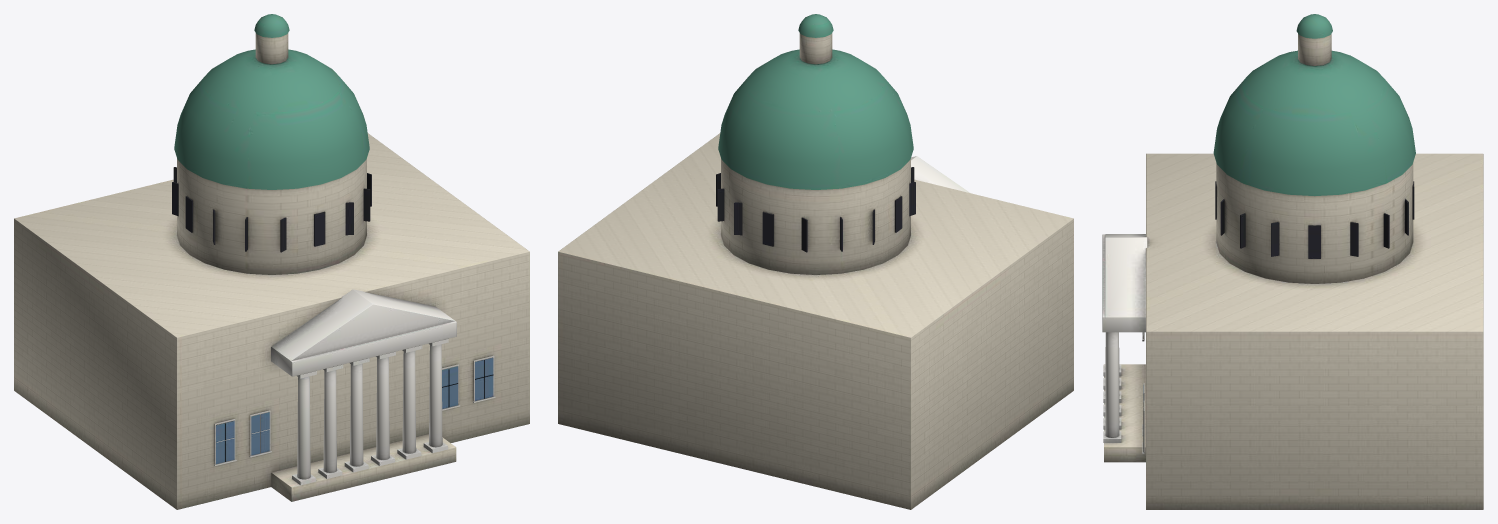
The model's file is old_courthouse.glb.
The picture shows the model from 3 angles, left to right: view 1: azimuth 30°, elevation 25°; view 2: azimuth 150°, elevation 25°; view 3: azimuth 270°, elevation 25°; orthographic projection. The views are drawn at different scales.
Visible parts, largest first — view 1: old_courthouse; view 2: old_courthouse; view 3: old_courthouse.
Part boxes in pixels (box(x1,y1,x2,y2)): old_courthouse: box(14, 14, 529, 509); old_courthouse: box(558, 14, 1073, 509); old_courthouse: box(1102, 14, 1483, 509).
Size of the model in its own units: 30 by 31.8 by 27.1.
1 material, 1 textured.
